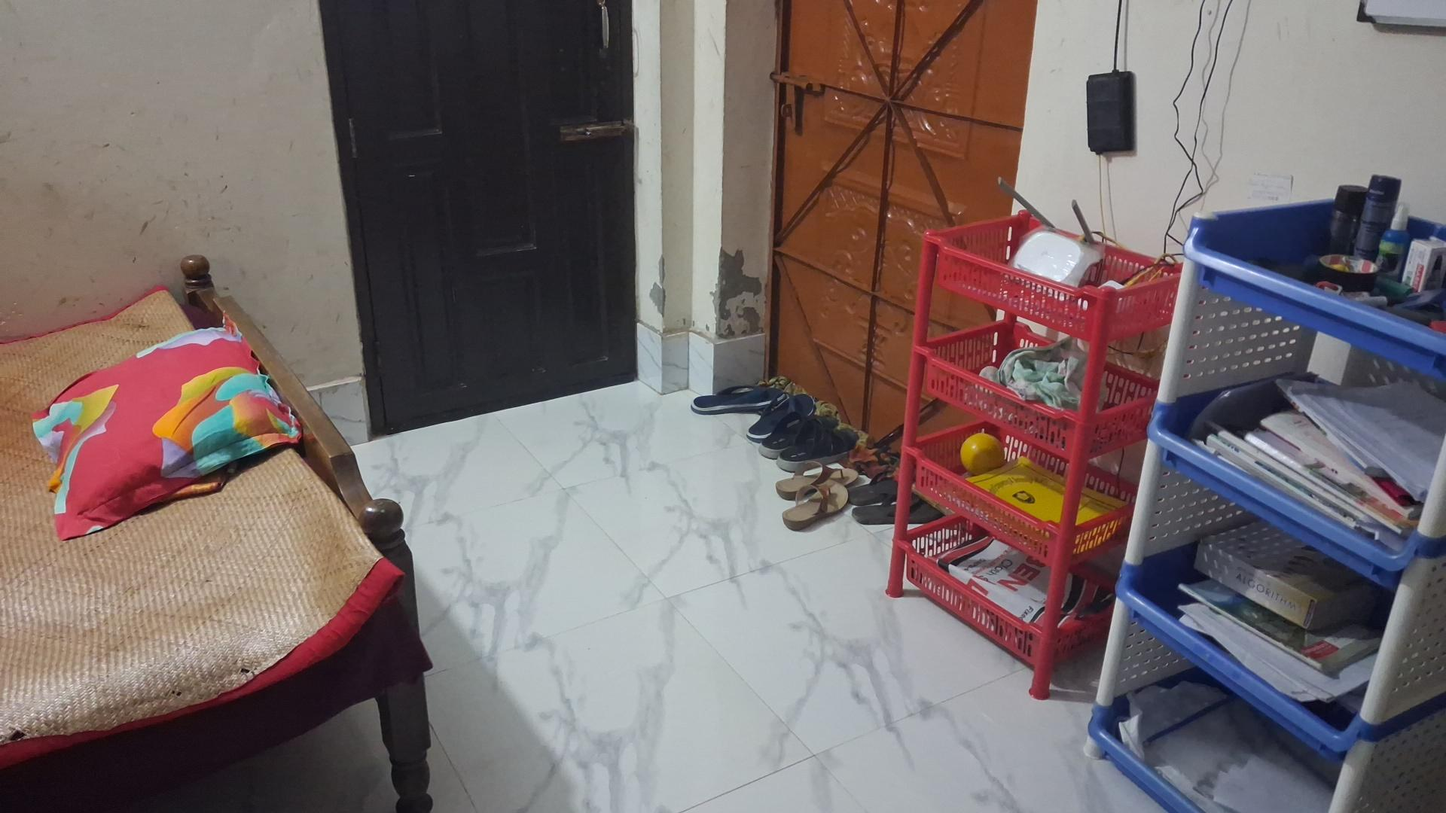Book: (1192, 517, 1381, 635)
Door: (315, 5, 644, 431), (767, 7, 1033, 482)
Footwear: (693, 373, 817, 438), (774, 461, 859, 531), (761, 415, 857, 468)
Pillow: (34, 322, 295, 541)
Rack: (1095, 189, 1446, 813), (890, 214, 1181, 699)
